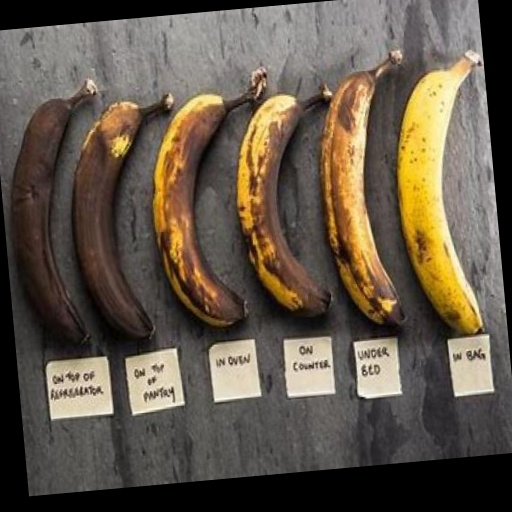fruit: (153, 68, 266, 326), (73, 94, 173, 339), (397, 51, 482, 334), (321, 51, 404, 324), (11, 80, 96, 343), (237, 87, 331, 316)
